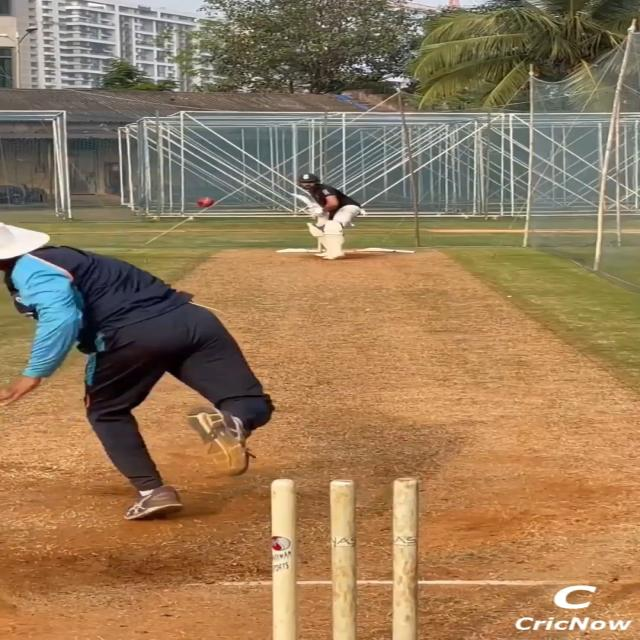ball: (197, 197, 215, 208)
stump: (267, 476, 424, 640)
